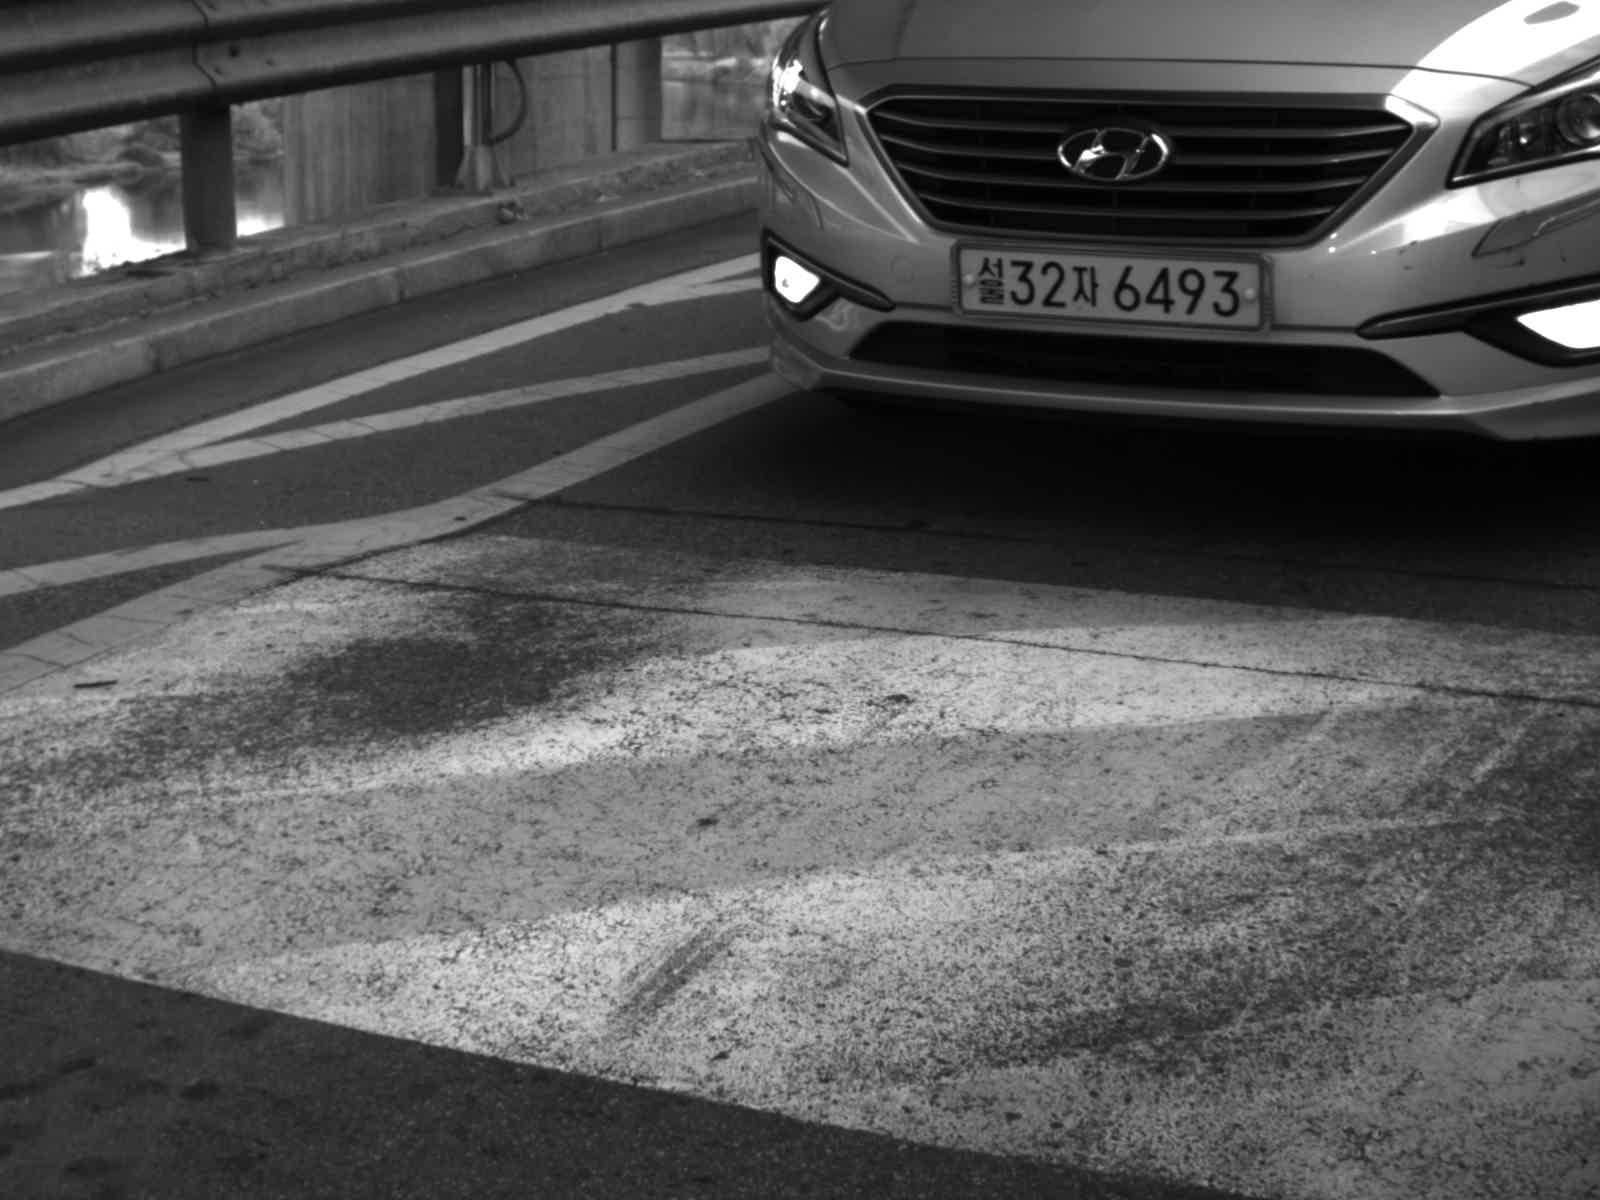P4_서울32자6493: (956, 240, 1264, 332)
서울: (968, 251, 1010, 317)
자: (1068, 254, 1101, 316)
